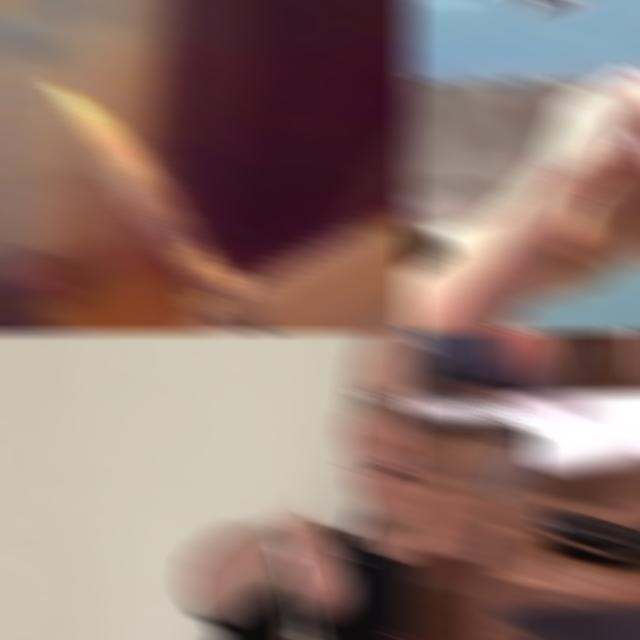Knife: (405, 388, 640, 476), (533, 505, 640, 613), (496, 596, 640, 640)
Knife_Handle: (46, 81, 416, 334), (267, 496, 370, 640), (267, 521, 375, 640)
